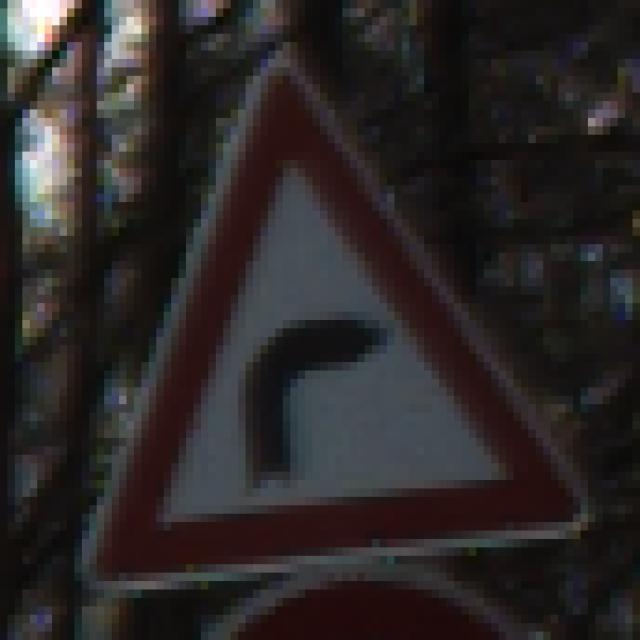right hand curve: (97, 60, 584, 534)
